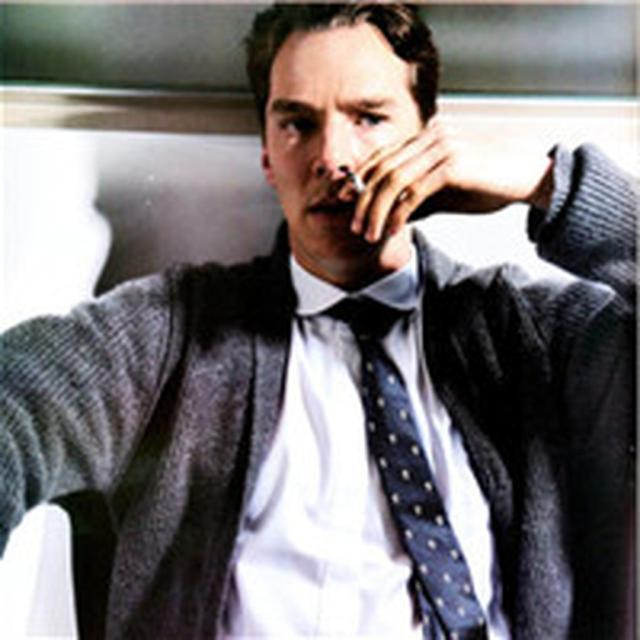smoking: (246, 0, 434, 291)
